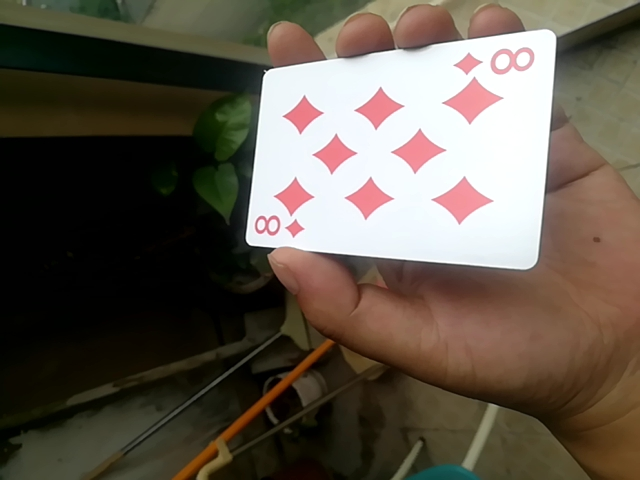fk 8: (239, 28, 564, 271)
